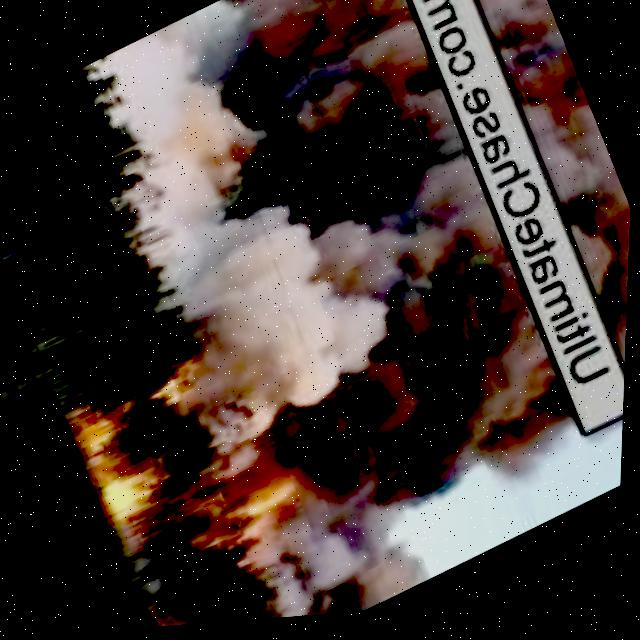Fire: (61, 338, 246, 533), (222, 469, 324, 537)
Smoke: (82, 0, 609, 606), (416, 0, 640, 445)
